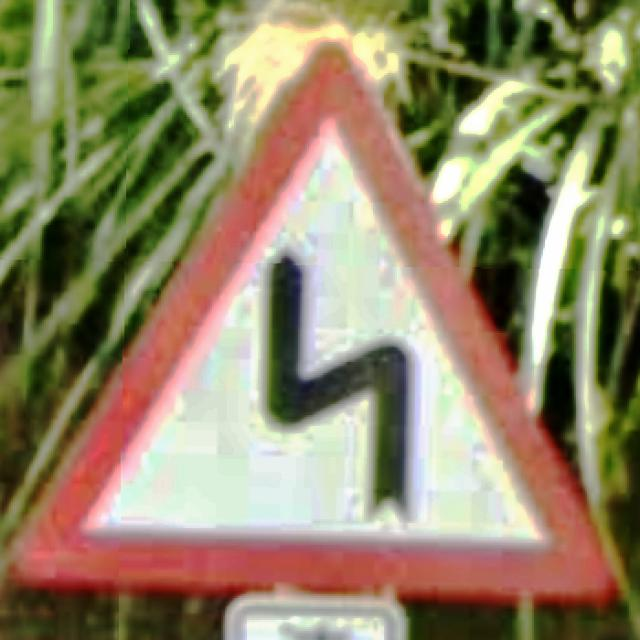doublebendleft: (18, 48, 618, 603)
